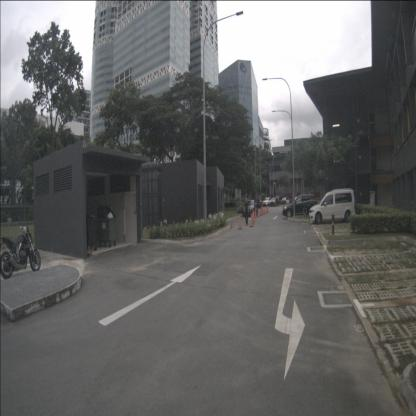cone: (237, 216, 242, 230), (250, 214, 254, 228), (252, 209, 256, 222), (254, 207, 258, 219), (251, 212, 254, 225), (257, 208, 260, 217), (261, 206, 264, 215), (260, 207, 262, 216), (264, 206, 266, 214), (266, 205, 268, 212)
